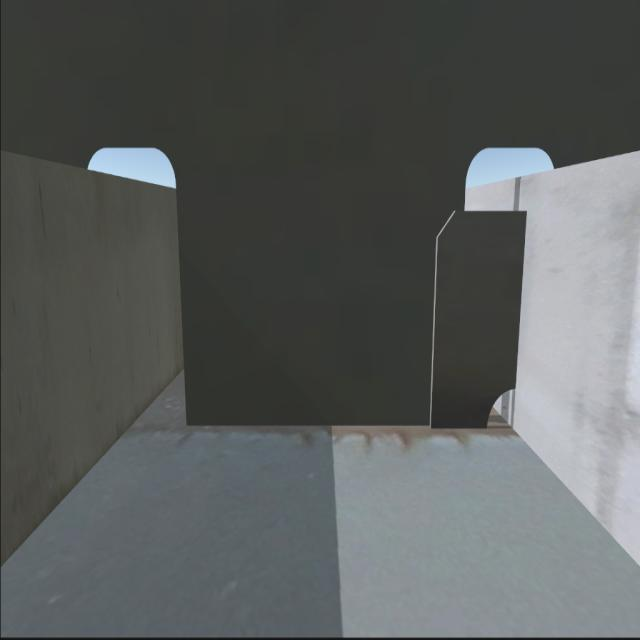fillet_hole: (483, 384, 517, 432)
fillet_yong_jeop_jang: (182, 416, 485, 436)
longi_yong_jeop_jang: (516, 207, 527, 387)
plate_CP03: (430, 209, 518, 428)
